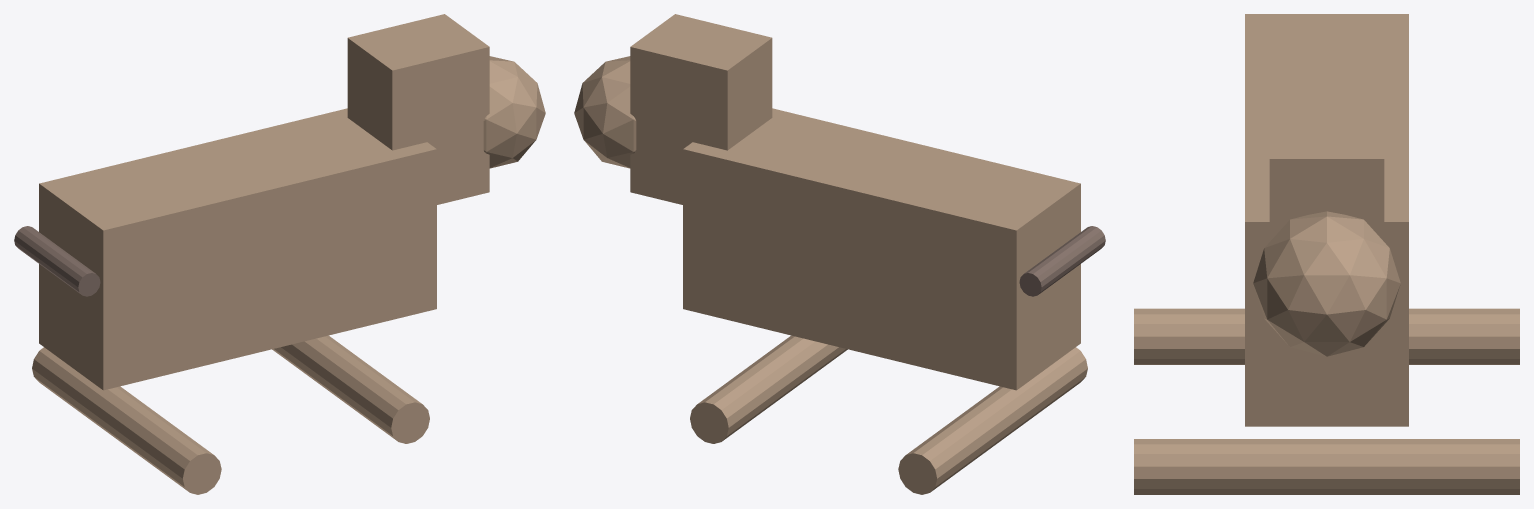
File: pet_horse.glb
3 views of the same model, side by side, from view 1: azimuth 30°, elevation 25°; view 2: azimuth 150°, elevation 25°; view 3: azimuth 270°, elevation 25° (orthographic). The views are drawn at different scales.
Visible parts, largest first — view 1: p000, p001, p004, p003, p002, p005, p007, p006; view 2: p000, p001, p005, p006, p002, p003, p007, p004; view 3: p000, p002, p004, p001, p006, p003, p005.
Boxes of the visible parts, x1=… form: p000: x1=39, y1=108, x2=436, y2=390; p001: x1=347, y1=14, x2=489, y2=204; p004: x1=279, y1=335, x2=429, y2=443; p003: x1=71, y1=375, x2=221, y2=494; p002: x1=483, y1=56, x2=545, y2=168; p005: x1=32, y1=347, x2=175, y2=463; p007: x1=14, y1=226, x2=100, y2=296; p006: x1=272, y1=336, x2=381, y2=413; p000: x1=683, y1=108, x2=1080, y2=390; p001: x1=630, y1=14, x2=772, y2=204; p005: x1=898, y1=375, x2=1049, y2=494; p006: x1=690, y1=335, x2=840, y2=443; p002: x1=574, y1=56, x2=636, y2=168; p003: x1=944, y1=347, x2=1087, y2=463; p007: x1=1019, y1=226, x2=1105, y2=296; p004: x1=742, y1=336, x2=847, y2=413; p000: x1=1245, y1=14, x2=1408, y2=426; p002: x1=1253, y1=211, x2=1400, y2=356; p004: x1=1134, y1=439, x2=1421, y2=494; p001: x1=1269, y1=98, x2=1384, y2=344; p006: x1=1232, y1=439, x2=1519, y2=494; p003: x1=1134, y1=308, x2=1421, y2=364; p005: x1=1232, y1=308, x2=1519, y2=364.
Bounding box in the file's own units: 1.77 × 1.12 × 0.94.
